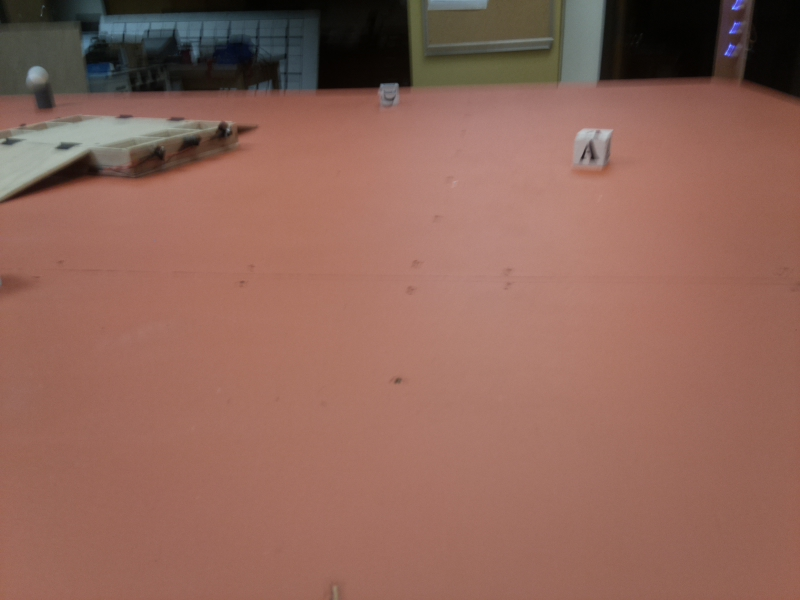blockA: (574, 123, 617, 172)
blockD: (379, 82, 400, 106)
corner: (712, 1, 752, 88)
obstacle: (25, 66, 57, 110)
side: (95, 119, 238, 182)
slope: (1, 141, 95, 198), (238, 121, 260, 132)
